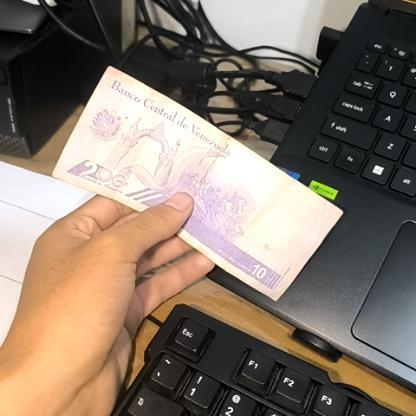ten-back-vef: (54, 67, 344, 302)
